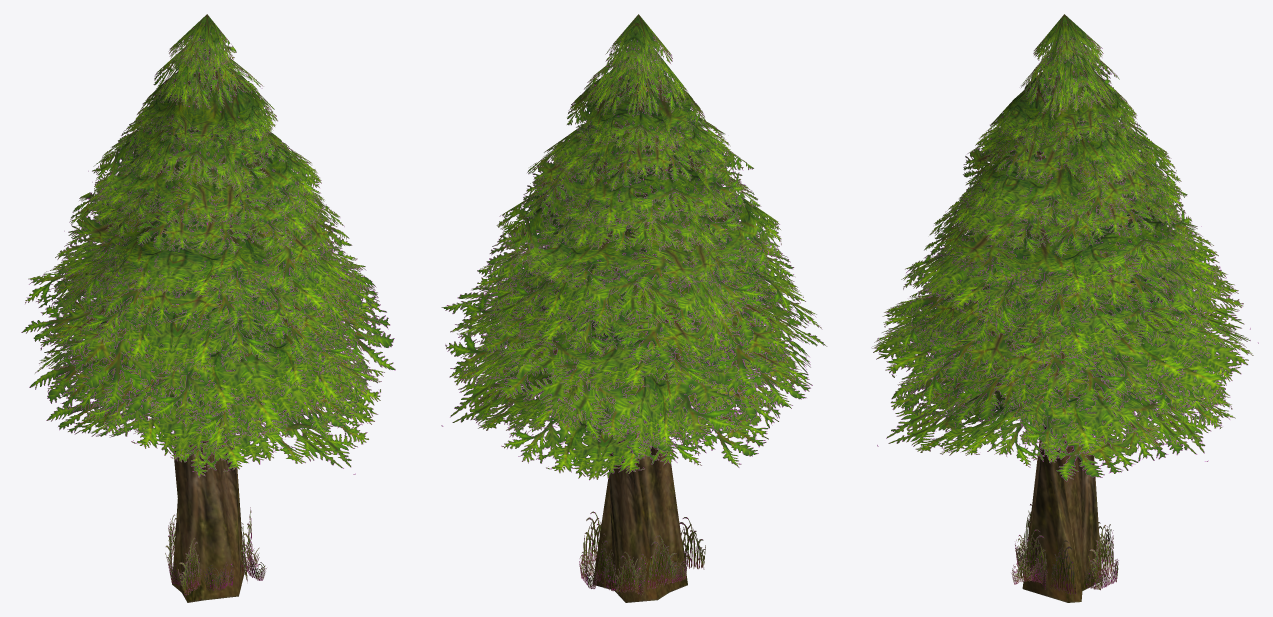
File: n_e3gardentree02_03.glb
3 views of the same model, side by side, from view 1: azimuth 30°, elevation 25°; view 2: azimuth 150°, elevation 25°; view 3: azimuth 270°, elevation 25° (orthographic).
Parts seen in each view (by area): view 1: n_e3gardentree02_03; view 2: n_e3gardentree02_03; view 3: n_e3gardentree02_03.
Boxes of the visible parts, x1,y1,x2,y2 form: n_e3gardentree02_03: (21, 14, 395, 602); n_e3gardentree02_03: (441, 14, 827, 602); n_e3gardentree02_03: (871, 14, 1258, 602).
Size of the model in its own units: 6.37 by 9.87 by 6.19.
3 materials, 3 textured.
